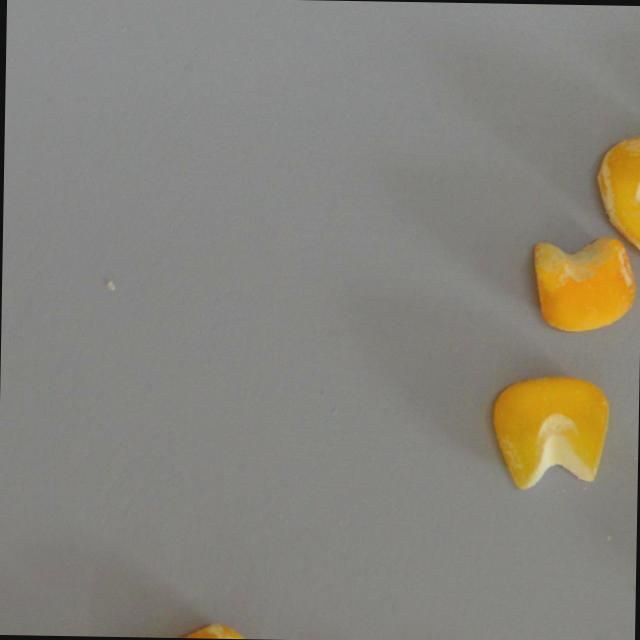pelicula: (490, 372, 610, 492), (530, 233, 640, 333), (595, 128, 640, 254), (153, 620, 262, 639)
